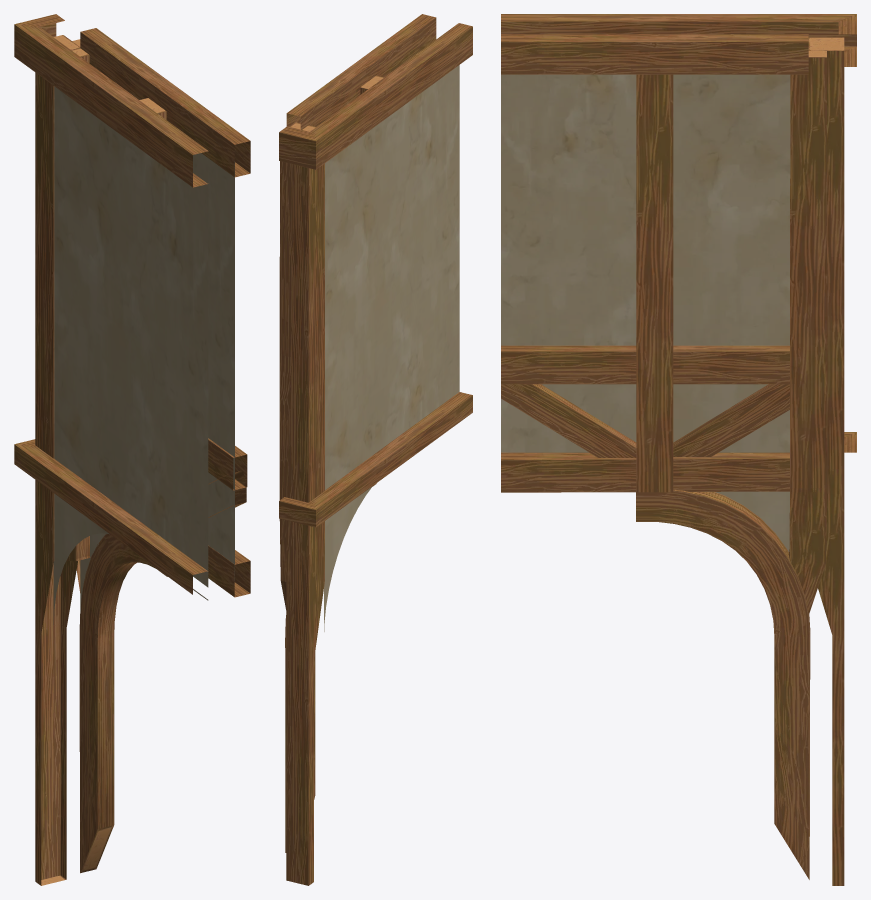
The model's file is overhang_side_plaster_long_r.glb.
3 views of the same model, side by side, from view 1: azimuth 30°, elevation 25°; view 2: azimuth 150°, elevation 25°; view 3: azimuth 270°, elevation 25° (orthographic). The views are drawn at different scales.
Size of the model in its own units: 0.4794 by 6.12 by 2.31.
2 materials, 2 textured.
